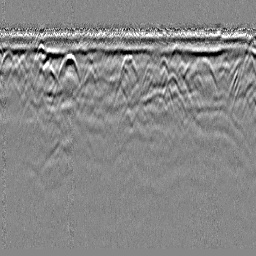cavity: (116, 51, 141, 95)
